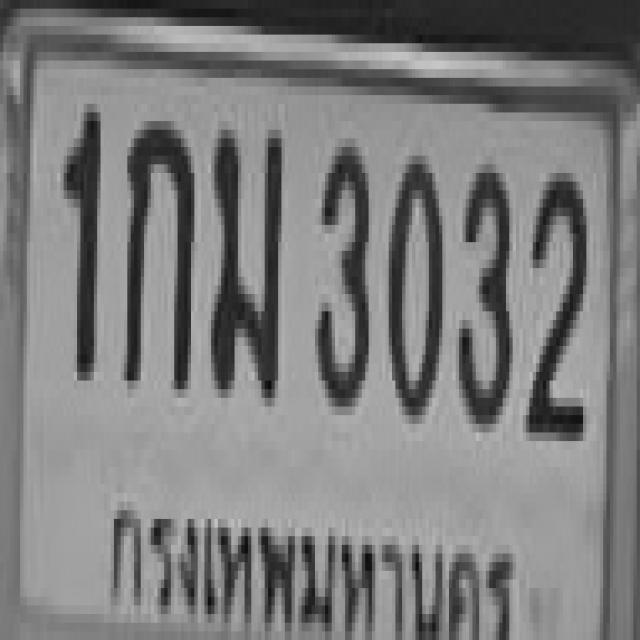0: (385, 147, 439, 415)
1: (60, 100, 97, 376)
10GorGai: (121, 112, 191, 380)
2: (523, 165, 583, 432)
3: (312, 138, 368, 406), (456, 156, 509, 424)
42MorMa: (208, 116, 278, 394)
Bangkok: (102, 472, 525, 640)
